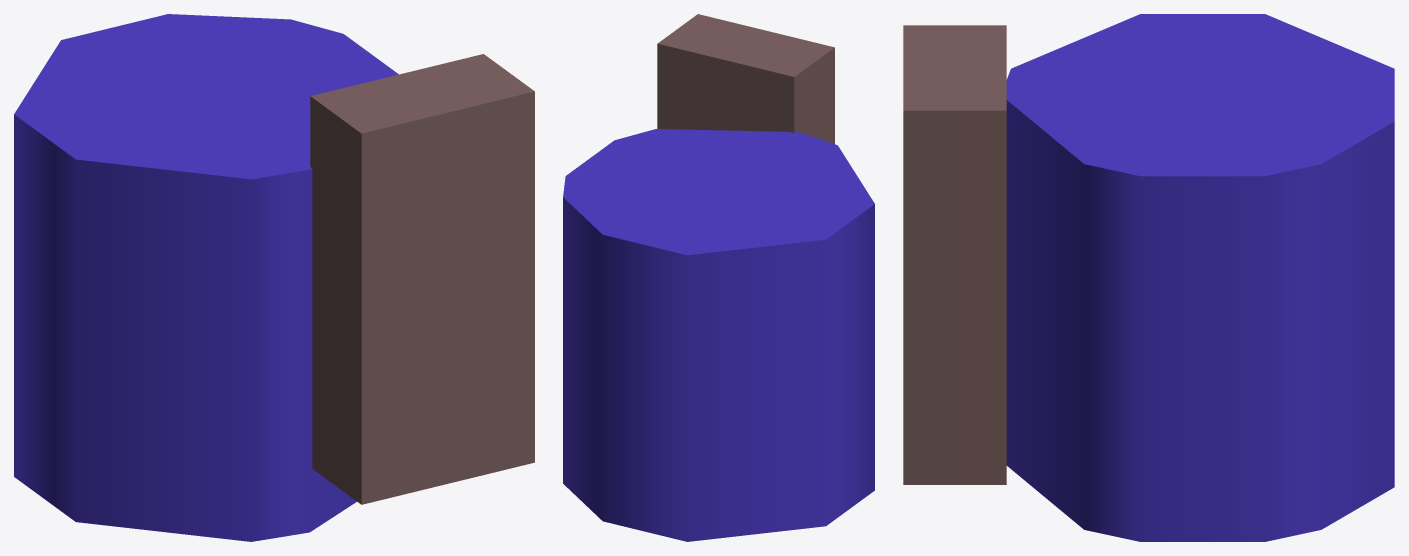
Rendered from Macrophages.obj.
The picture shows the model from 3 angles, left to right: view 1: azimuth 30°, elevation 25°; view 2: azimuth 150°, elevation 25°; view 3: azimuth 270°, elevation 25°; orthographic projection. The views are drawn at different scales.
Visible parts, largest first — view 1: pCylinder2 group1, group1 pCube2; view 2: pCylinder2 group1, group1 pCube2; view 3: pCylinder2 group1, group1 pCube2.
Boxes of the visible parts, x1,y1,x2,y2 form: pCylinder2 group1: (14,14,398,541); group1 pCube2: (310,54,534,504); pCylinder2 group1: (563,129,874,541); group1 pCube2: (657,14,834,143); pCylinder2 group1: (1006,14,1394,541); group1 pCube2: (903,25,1006,484).
Size of the model in its own units: 1.97 by 2.39 by 2.44.
Materials: 1 (1 with a texture image).
